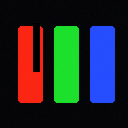4 line_v: (33, 23, 39, 71)
